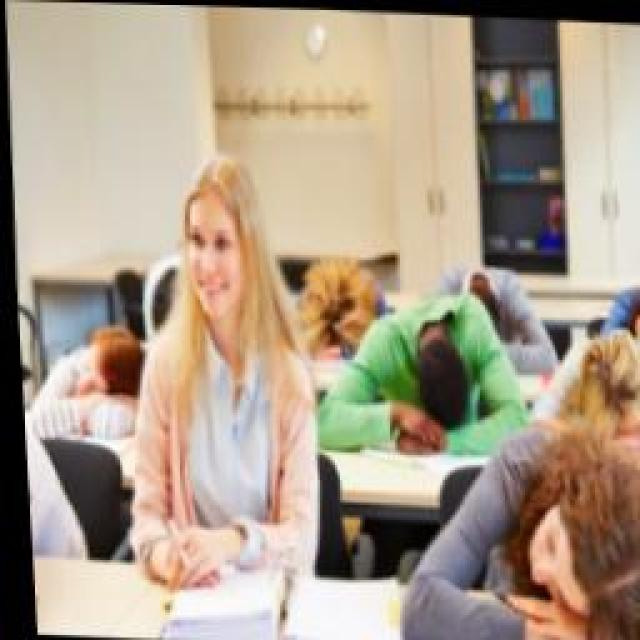sleep: (380, 425, 640, 640), (305, 290, 530, 455), (427, 252, 555, 380), (20, 320, 140, 440), (522, 327, 640, 435), (587, 274, 640, 337)
study: (110, 160, 318, 588)
